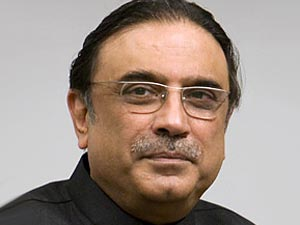stroke: (100, 33, 224, 191)
